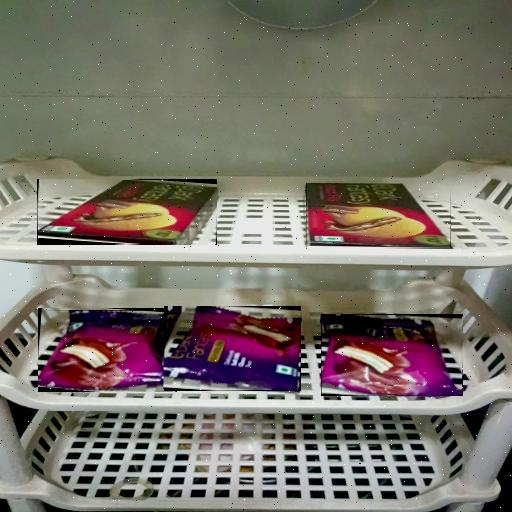Choco Fills: (38, 181, 217, 244), (306, 184, 451, 248)
Choco Pie: (164, 306, 301, 390), (322, 314, 462, 396), (38, 311, 177, 389)
